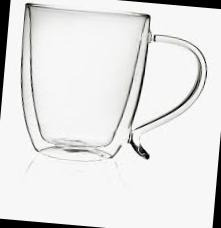glass: (0, 0, 217, 182)
